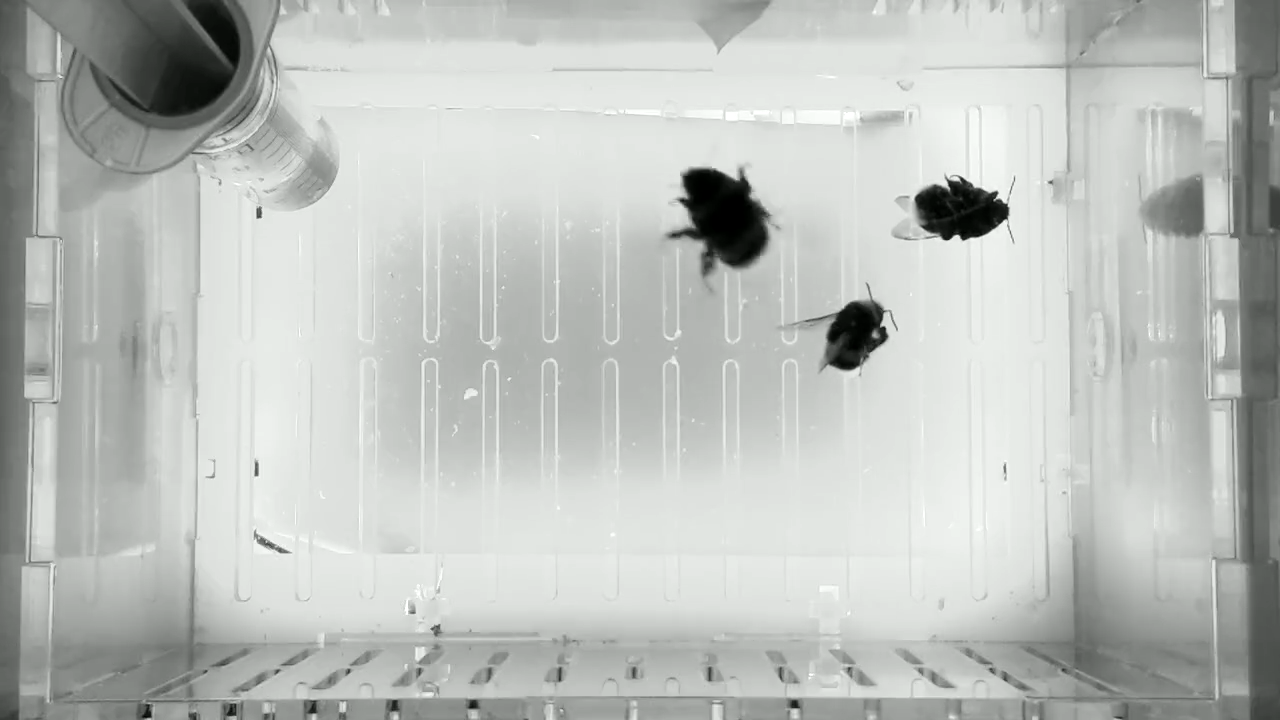bee: (652, 158, 784, 300), (770, 281, 903, 382), (888, 170, 1021, 248)
feeder: (187, 68, 344, 217)
